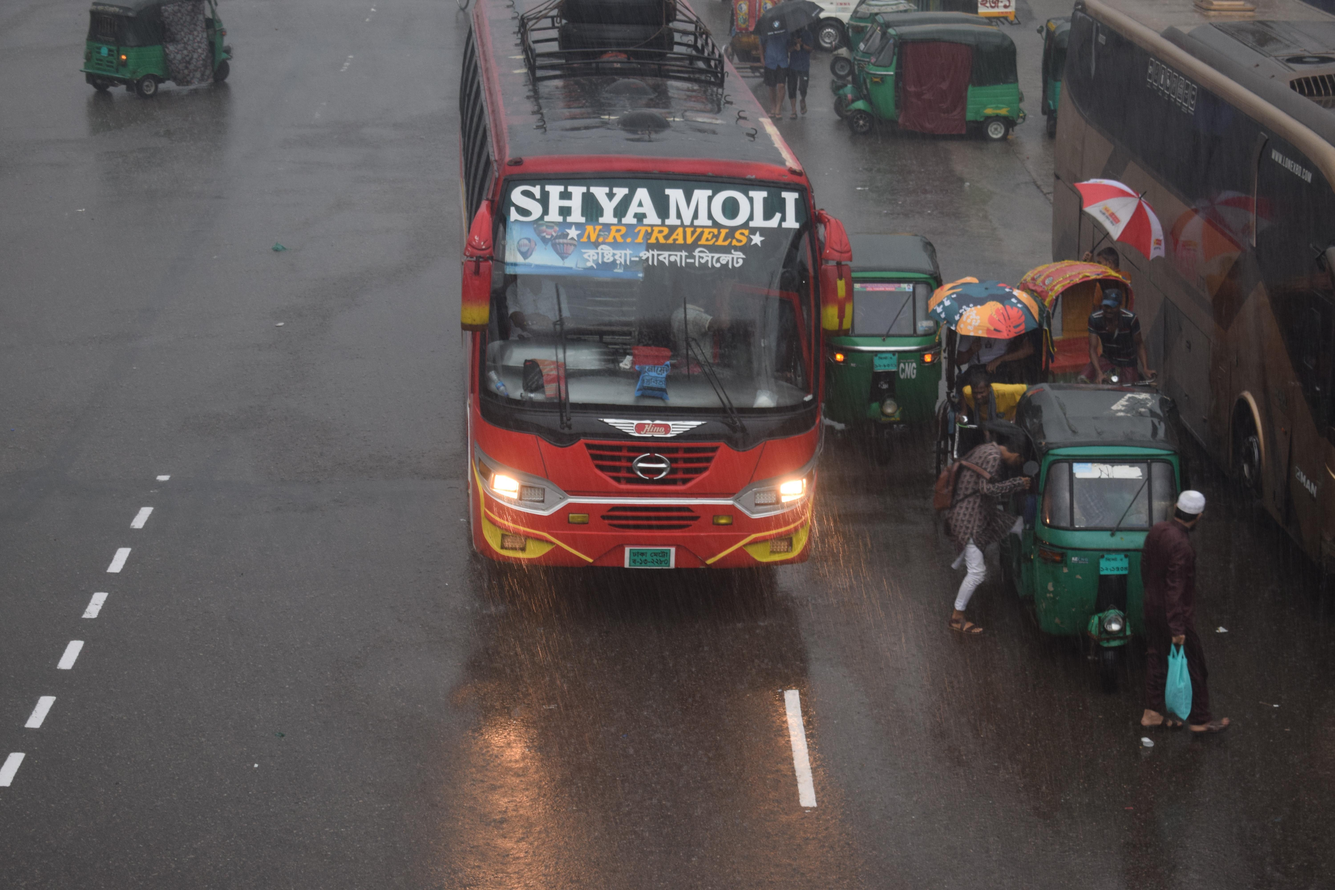Bus: (382, 0, 862, 672), (1040, 4, 1335, 548)
Car: (1001, 227, 1156, 419)
